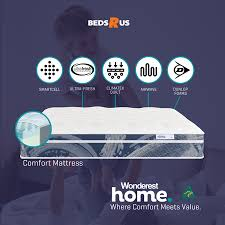bed-matress: (21, 104, 206, 161)
